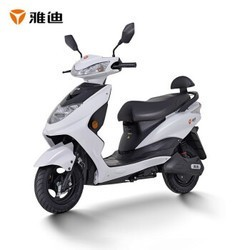MNV: (35, 28, 204, 212)
